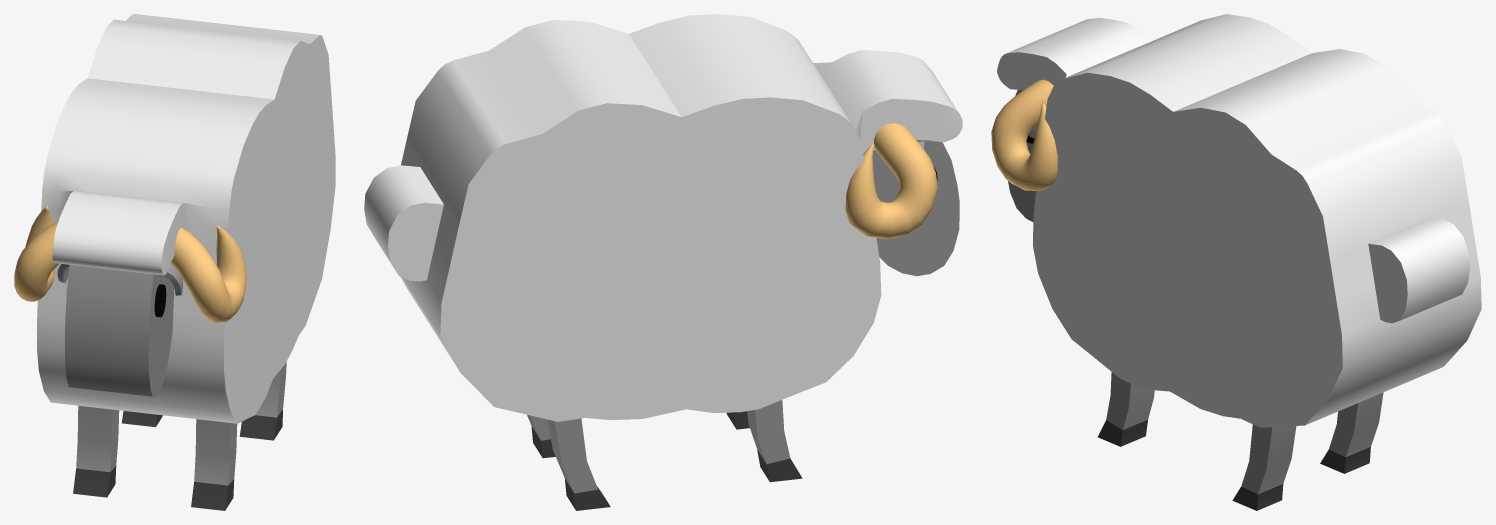
The model's file is ram.fbx.
3 renders of one model, left to right at view 1: azimuth 30°, elevation 25°; view 2: azimuth 150°, elevation 25°; view 3: azimuth 270°, elevation 25°, orthographic. The views are drawn at different scales.
Parts seen in each view (by area): view 1: Plane.124, Circle.1900, Cube.6237; view 2: Plane.124, Circle.1900; view 3: Plane.124, Circle.1900.
Part boxes in pixels (x1,y1,x2,y2): Plane.124: (37, 14, 335, 510); Circle.1900: (14, 206, 246, 322); Cube.6237: (57, 264, 182, 295); Plane.124: (364, 14, 962, 510); Circle.1900: (845, 123, 937, 239); Plane.124: (997, 14, 1481, 510); Circle.1900: (991, 79, 1057, 191).
Bounding box in the file's own units: 222 × 198 × 222.
1 material, 1 textured.
